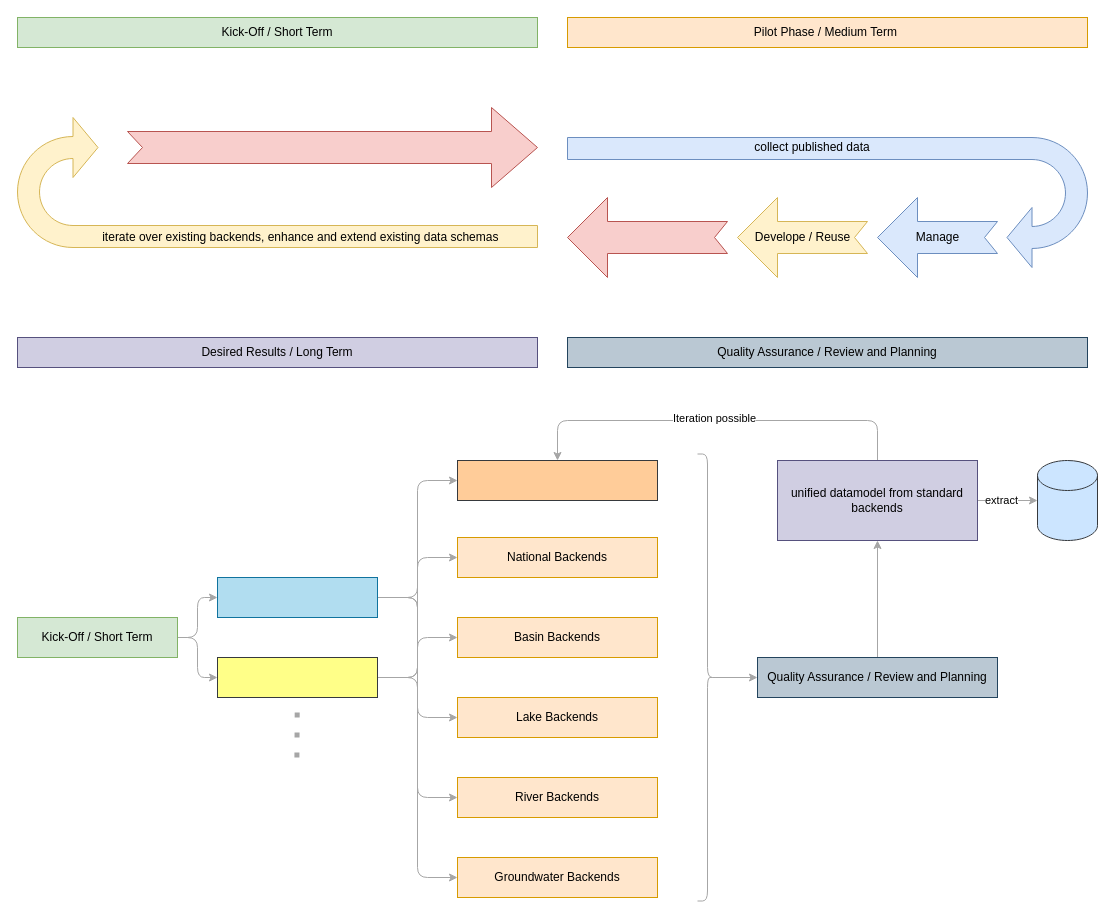
The diagram is 1115 pixels wide and 919 high, and some of its shapes have lost their labels. Here are the shapes that lost their labels. From the top down, the box of each, then its label:
(126, 106, 538, 188): enable participants to create backends around their data
(566, 196, 728, 278): Automation Processes
(456, 460, 658, 500): Specialized / Individual Backend
(1036, 460, 1098, 540): Data
(216, 576, 378, 618): Participant A
(216, 656, 378, 698): Participant B
